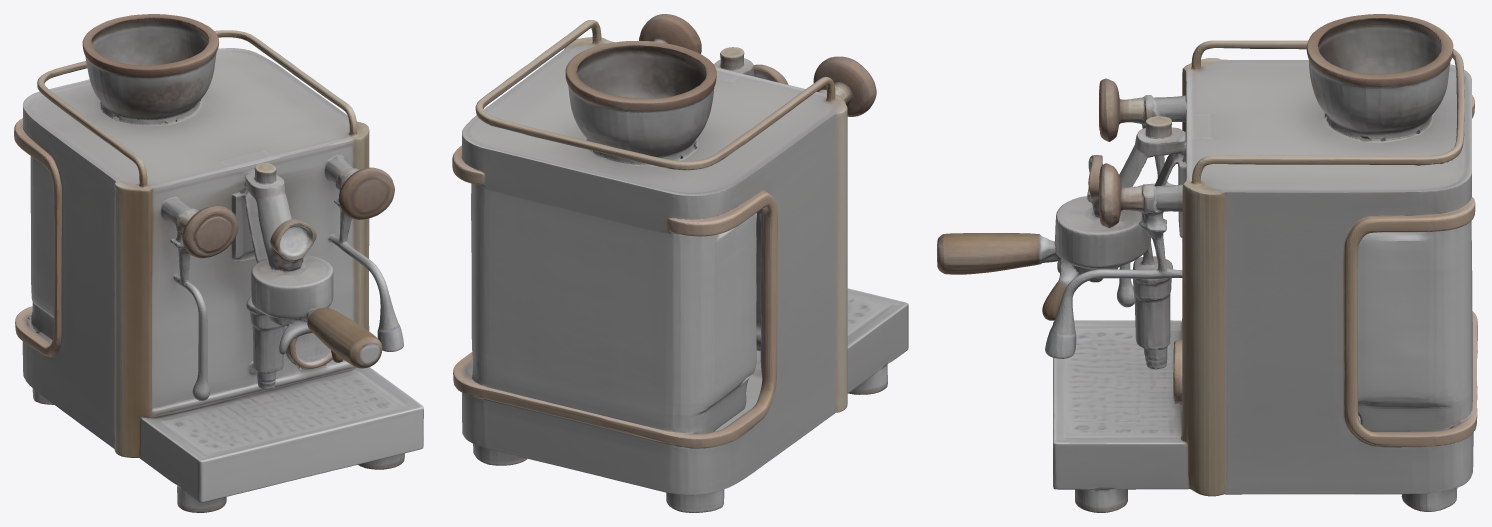
File: A_Coffee_Machine.glb
The picture shows the model from 3 angles, left to right: view 1: azimuth 30°, elevation 25°; view 2: azimuth 150°, elevation 25°; view 3: azimuth 270°, elevation 25°; orthographic projection. The views are drawn at different scales.
Visible parts, largest first — view 1: A_Coffee_Machine; view 2: A_Coffee_Machine; view 3: A_Coffee_Machine.
Boxes of the visible parts, <box> form: A_Coffee_Machine: <box>14,14,423,512</box>; A_Coffee_Machine: <box>452,14,908,512</box>; A_Coffee_Machine: <box>937,14,1477,512</box>.
Bounding box in the file's own units: 0.6013 × 0.809 × 0.9981.
